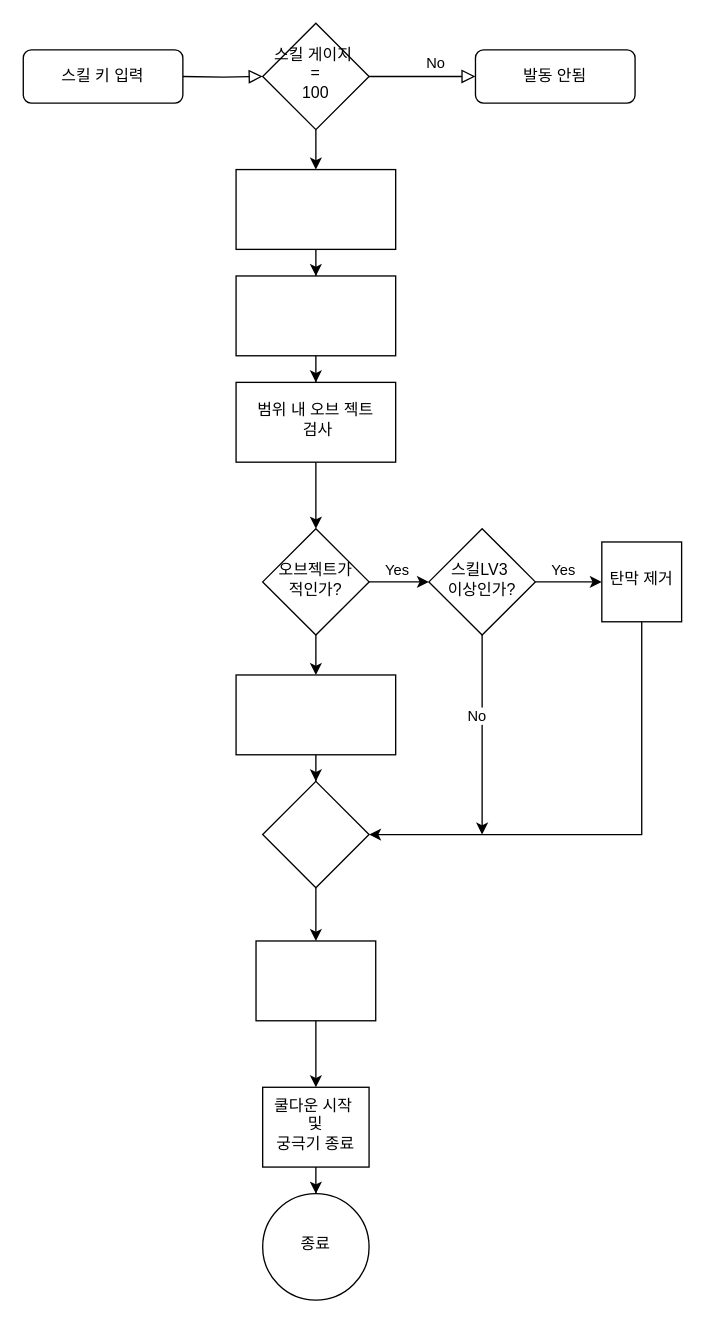
This 705x1323 diagram has some shape labels left out. The centre of each missing label's shape, as x and y in pixels:
남은 시간 = 0: the point at 315,834
다단히트 데미지: the point at 315,714
캐릭터 전면 방향 설정: the point at 315,208
화염 방사 종료 및 이펙트 제거: the point at 315,980
화염방사 이펙트 출력 시작: the point at 315,315
